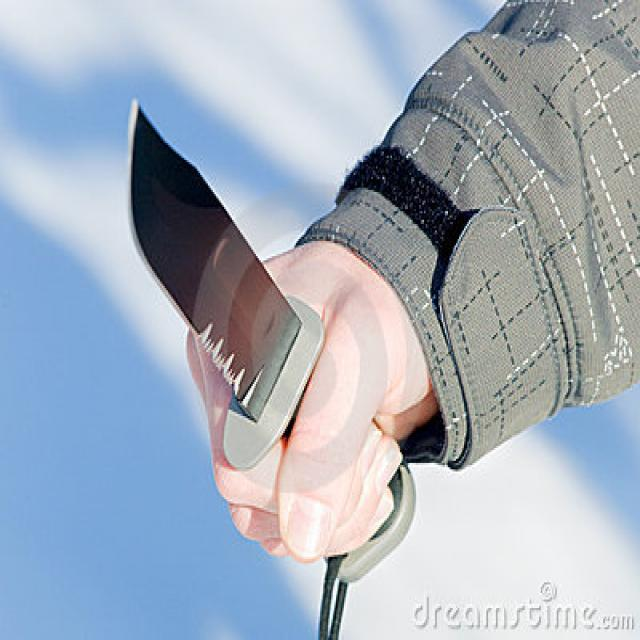knife: (105, 91, 433, 609)
